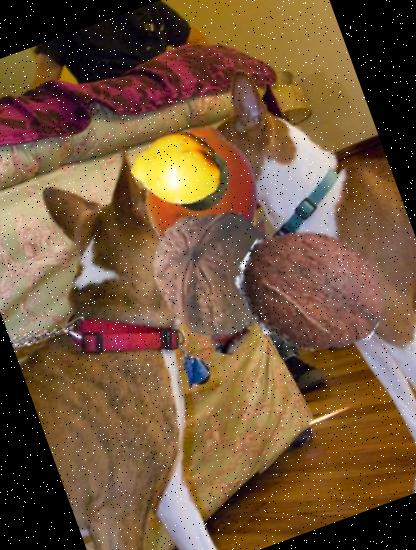Cocos: (215, 196, 407, 388)
Melon: (158, 140, 240, 222)
Quince: (118, 110, 233, 225)
Salak: (147, 191, 332, 376)
Tangelo: (118, 107, 288, 276)
Walnut: (132, 188, 300, 356)
